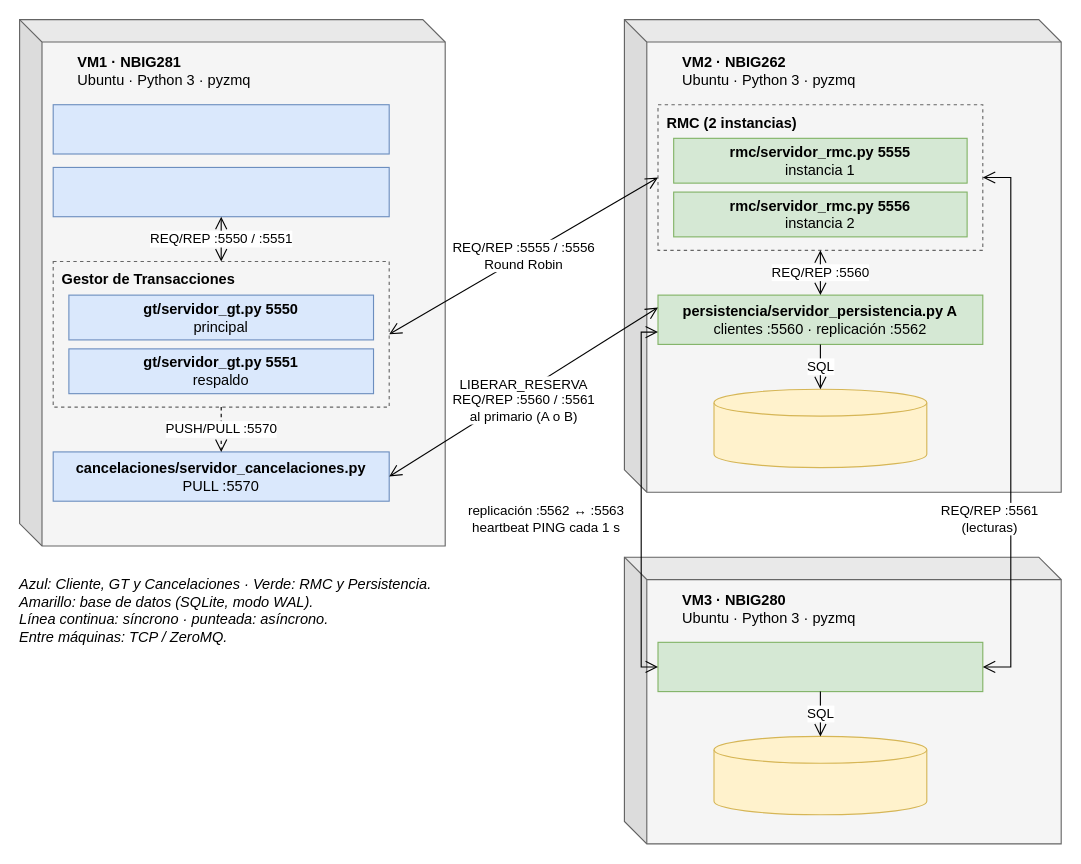
The diagram is 1081 pixels wide and 864 high, and some of its shapes have lost their labels. The centre of each missing label's shape, as x and y in pixels:
cliente/cliente.py buzón de notificaciones PULL :6001: (x=220, y=191)
cliente/generador_carga.py un hilo por cliente simulado: (x=220, y=129)
persistencia/servidor_persistencia.py B clientes :5561 · replicación :5563: (x=820, y=666)
srb_A.db SQLite · modo WAL: (x=820, y=428)
srb_B.db SQLite · modo WAL: (x=820, y=775)
